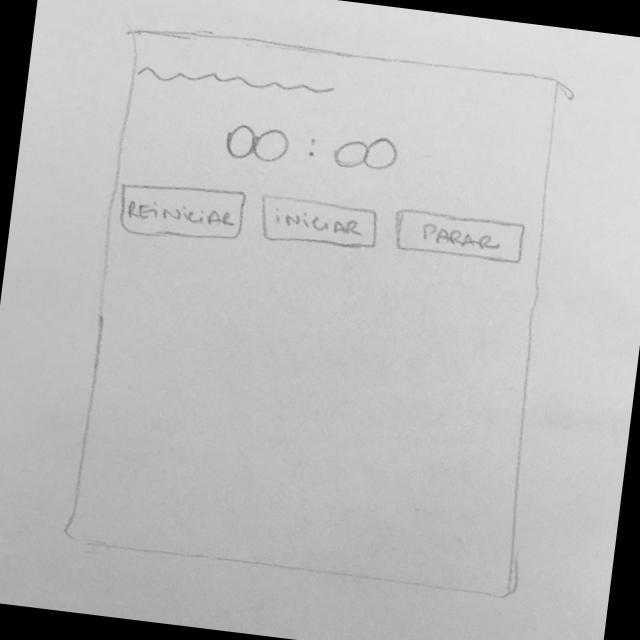button: (116, 176, 253, 250), (391, 205, 534, 272), (256, 193, 386, 254)
container: (58, 20, 592, 608)
label: (214, 113, 413, 187)
text: (136, 56, 353, 106)
